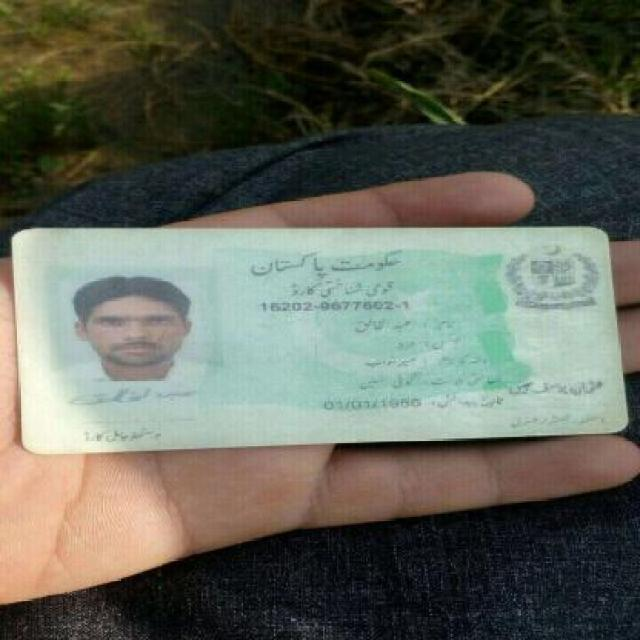Front: (11, 222, 626, 452)
